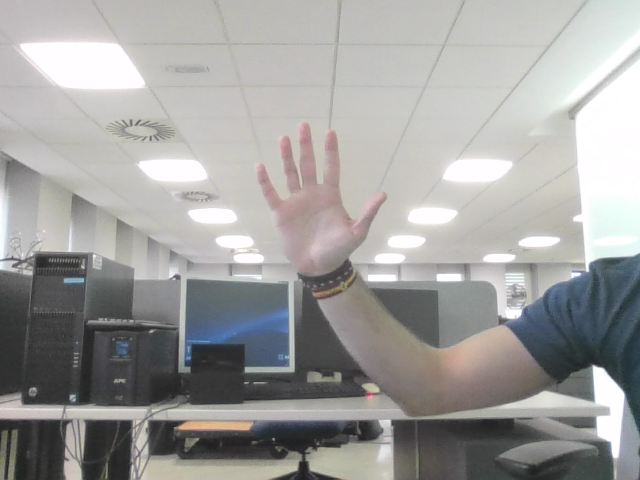Mano Abierta: (265, 133, 374, 248)
